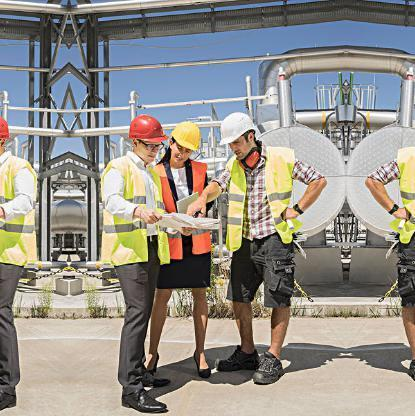helmet: (128, 114, 170, 144), (220, 112, 256, 146), (171, 121, 204, 152)
